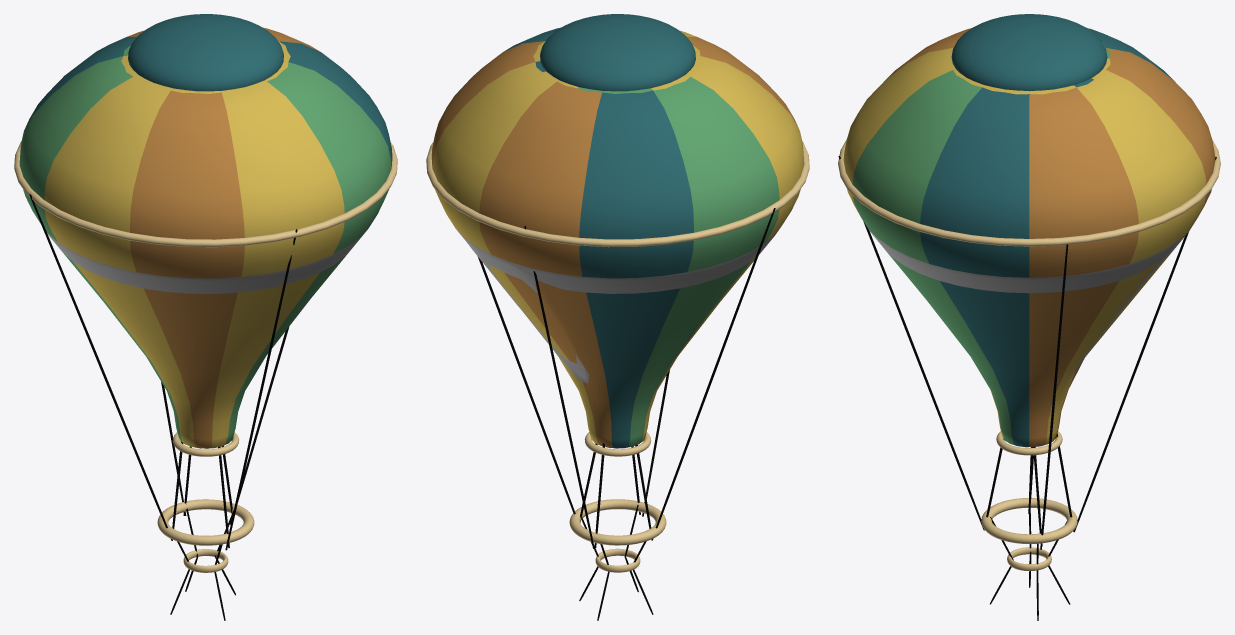
File: balloon.fbx
The picture shows the model from 3 angles, left to right: view 1: azimuth 30°, elevation 25°; view 2: azimuth 150°, elevation 25°; view 3: azimuth 270°, elevation 25°; orthographic projection.
Parts seen in each view (by area): view 1: pCylinder1, pSphere1, pTorus4, pTorus2, pCylinder6, pCylinder7, pTorus1, pTorus3, pCylinder8; view 2: pCylinder1, pSphere1, pTorus4, pTorus2, pCylinder6, pCylinder9, pCylinder8, pTorus1, pTorus3; view 3: pCylinder1, pSphere1, pTorus4, pTorus2, pCylinder7, pCylinder9, pCylinder8, pTorus1, pTorus3.
Boxes of the visible parts, bbox=[...] form: pCylinder1: bbox=[19, 27, 392, 448]; pSphere1: bbox=[128, 14, 283, 91]; pTorus4: bbox=[14, 141, 397, 247]; pTorus2: bbox=[157, 499, 254, 545]; pCylinder6: bbox=[29, 194, 172, 540]; pCylinder7: bbox=[225, 229, 297, 550]; pTorus1: bbox=[183, 549, 228, 572]; pTorus3: bbox=[172, 432, 239, 456]; pCylinder8: bbox=[230, 327, 288, 524]; pCylinder1: bbox=[431, 27, 804, 448]; pSphere1: bbox=[540, 14, 695, 91]; pTorus4: bbox=[426, 141, 809, 247]; pTorus2: bbox=[569, 499, 666, 545]; pCylinder6: bbox=[651, 208, 775, 540]; pCylinder9: bbox=[524, 226, 594, 548]; pCylinder8: bbox=[477, 256, 575, 514]; pTorus1: bbox=[595, 548, 640, 572]; pTorus3: bbox=[584, 432, 650, 456]; pCylinder1: bbox=[843, 27, 1215, 447]; pSphere1: bbox=[951, 14, 1107, 91]; pTorus4: bbox=[838, 139, 1220, 246]; pTorus2: bbox=[981, 498, 1077, 543]; pCylinder7: bbox=[838, 155, 983, 529]; pCylinder9: bbox=[1073, 156, 1216, 532]; pCylinder8: bbox=[1040, 244, 1068, 549]; pTorus1: bbox=[1007, 547, 1051, 571]; pTorus3: bbox=[996, 431, 1062, 455].
Size of the model in its own units: 25.69 by 42.52 by 25.64.
